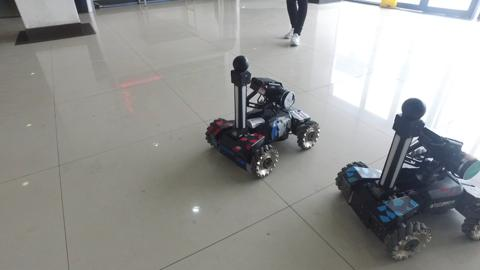chariot: (336, 88, 479, 266), (200, 53, 322, 186)
